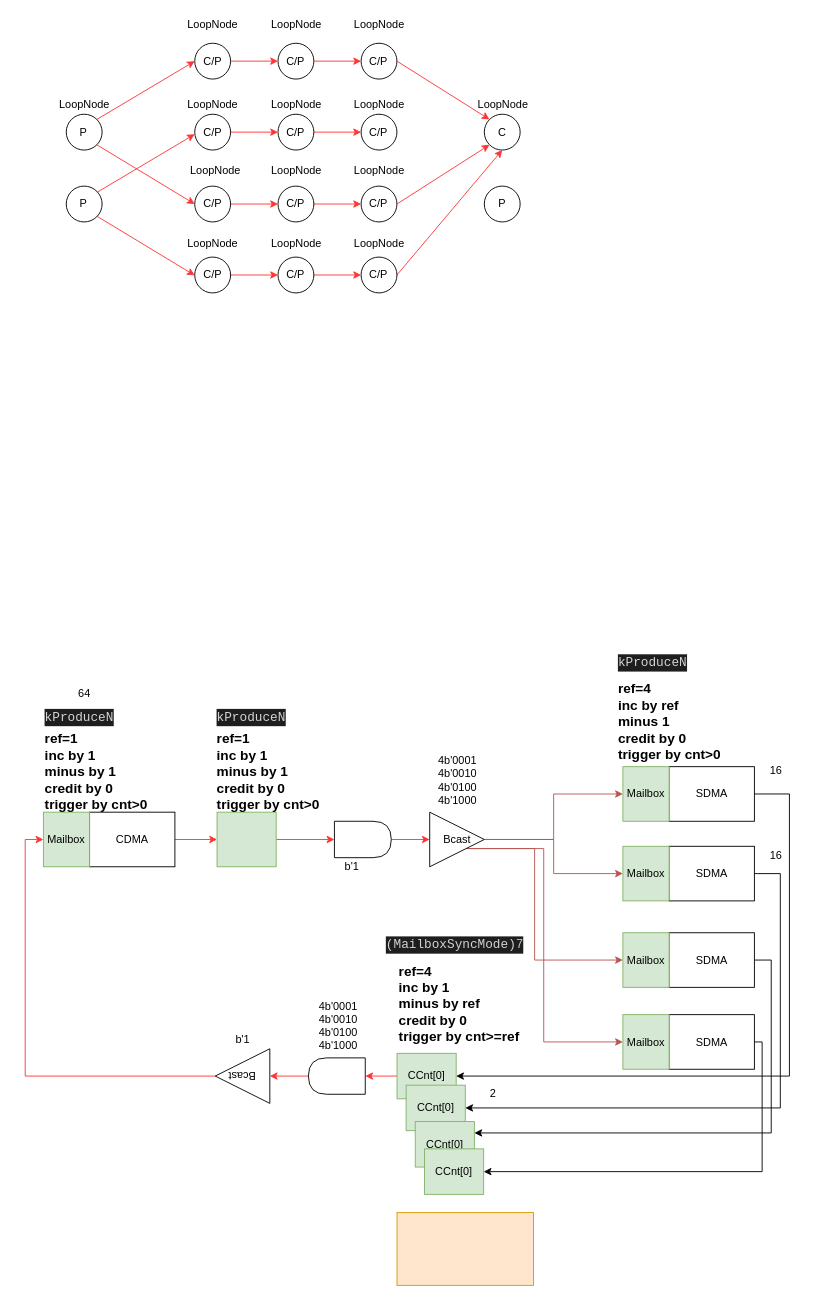
This 813x1305 diagram has some shape labels left out. The shapes that lost their labels are listed below. From the top down, each one's box as (x1, y1, x2, y2) in pixels, then its label:
(216, 811, 276, 867): PCnt[0]
(334, 820, 391, 858): PSelector
(307, 1057, 365, 1094): CSelector
(396, 1212, 534, 1285): ref=4 inc by 1 minus by ref credit by ref trigger by cnt>=ref
